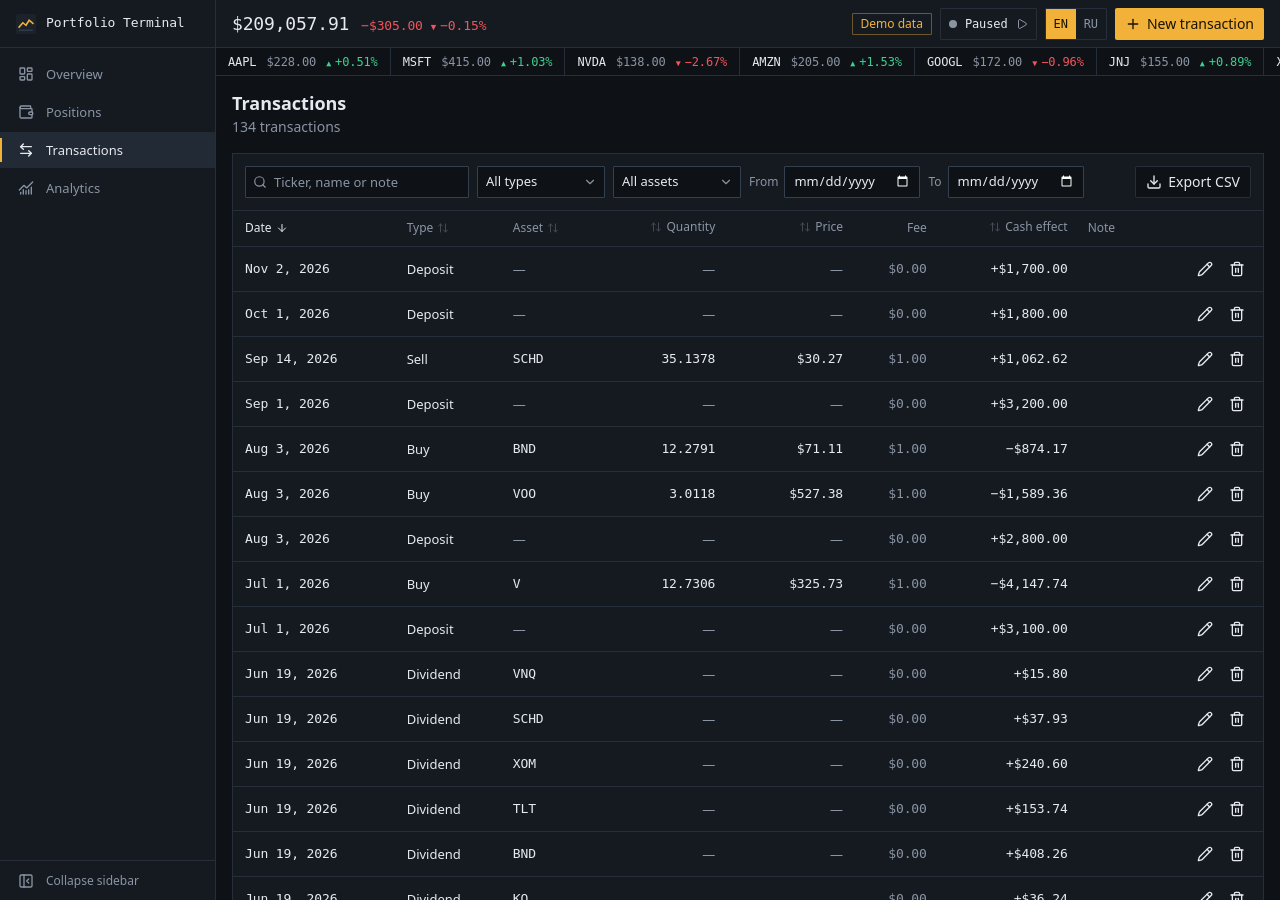
Scenario: TransactionsPage › opens the form to edit a row
Click the button named "Edit transaction from" at (1205, 269), box [1191, 255, 1219, 283]
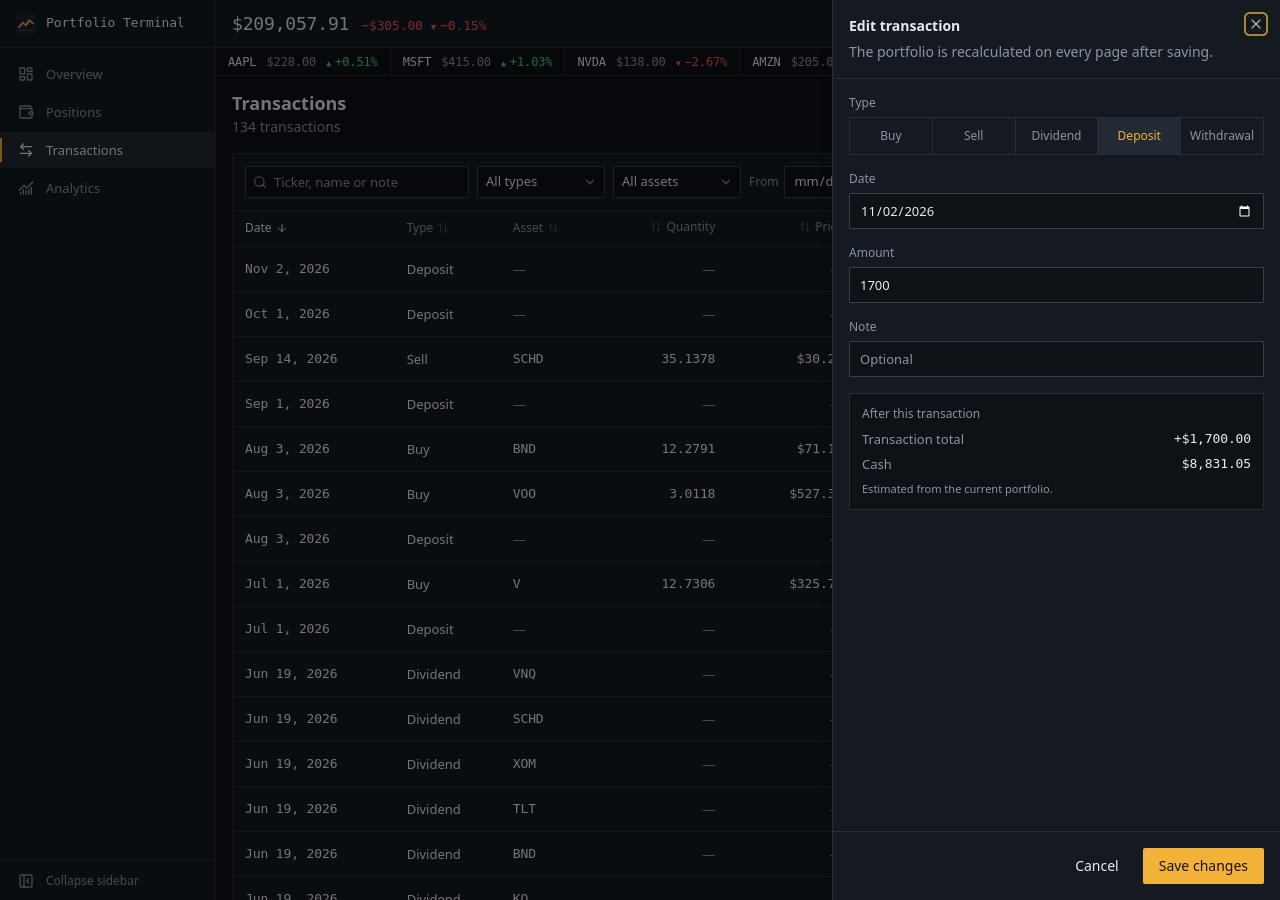
Now the dialog "Edit transaction" is shown, box [832, 0, 1279, 899]
Now the button "Save changes" is shown, box [1143, 848, 1264, 884]
